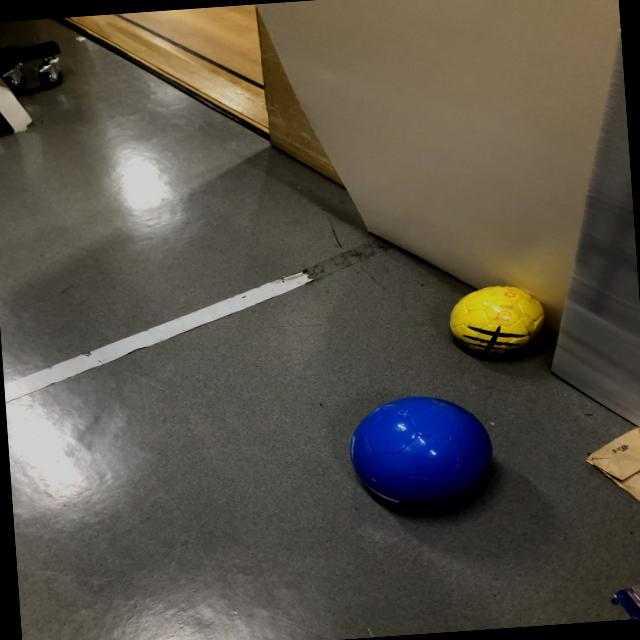blue_ball: (338, 388, 501, 518)
